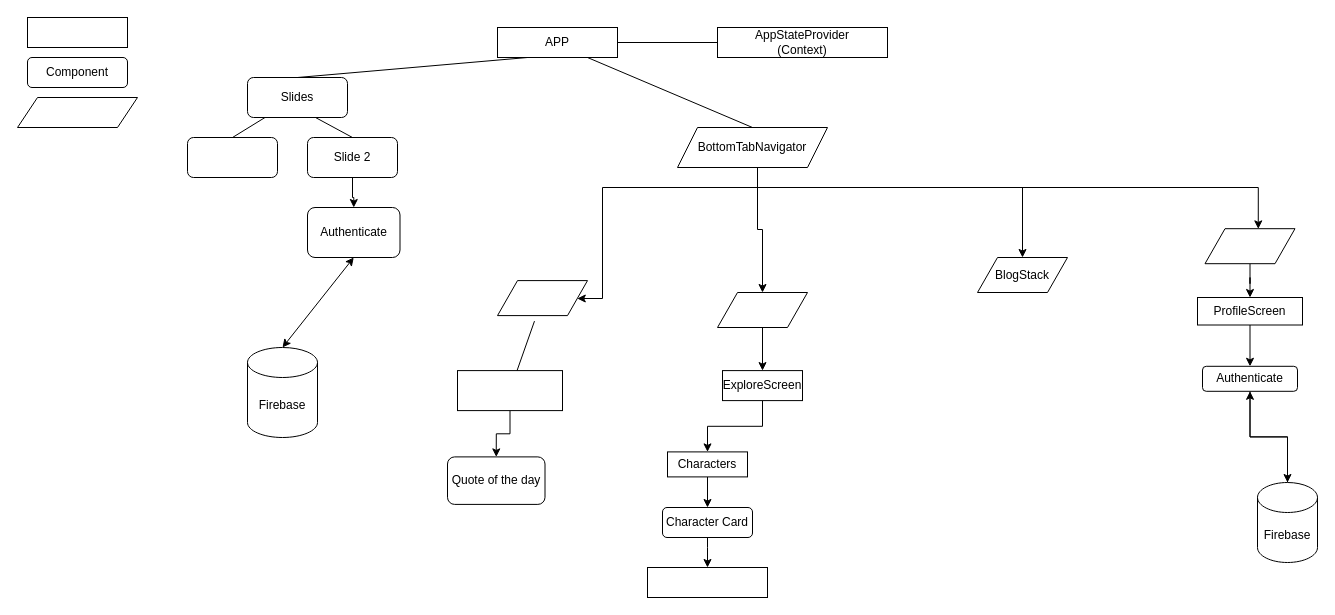
Some shapes in this 1335 by 615 pixel diagram are drawn without their labels. The centre of each missing label's shape, as x and y in pixels:
ExploreStack: point 762,310
HomeScreen: point 509,390
HomeStack: point 542,298
ProfileStack: point 1249,246
Screen: point 77,32
Slide 1: point 232,157
SpecificCharacter: point 707,582
Stack Navigation: point 77,112
